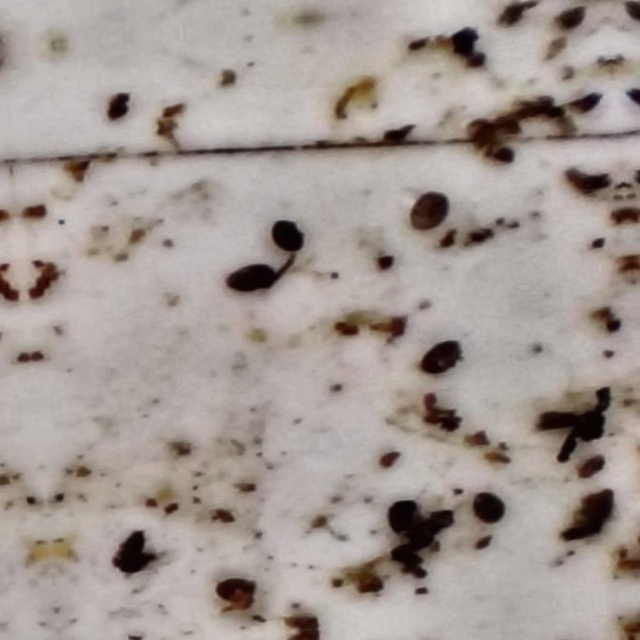varroa: (404, 188, 450, 234), (220, 262, 279, 297), (416, 338, 466, 379), (269, 218, 309, 257), (468, 489, 508, 527), (384, 499, 424, 537)
